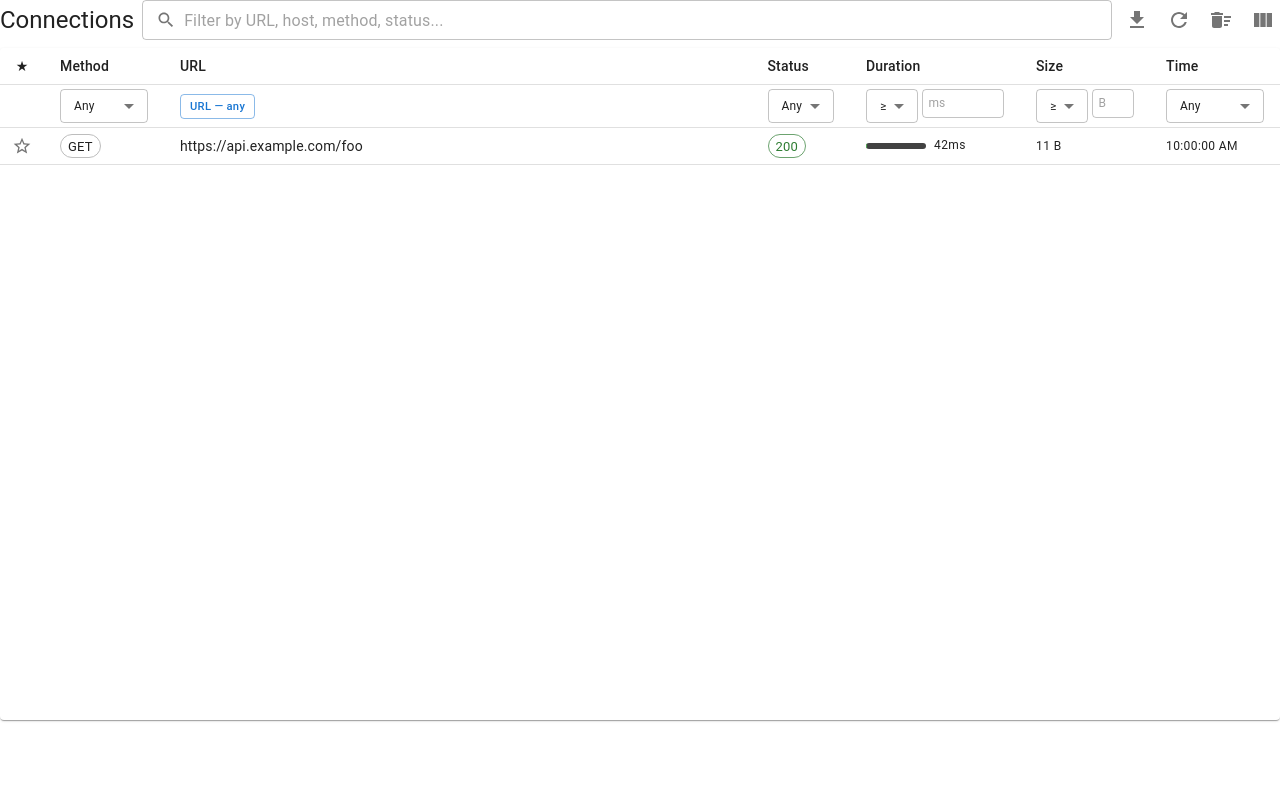
it: ConnectionsPage — body preview › renders text bodies in a <pre> block once the card is expanded
The width and height of the screenshot is (1280, 792).
Click the text "https://api.example.com/foo" at (458, 147), box [164,128,752,165]
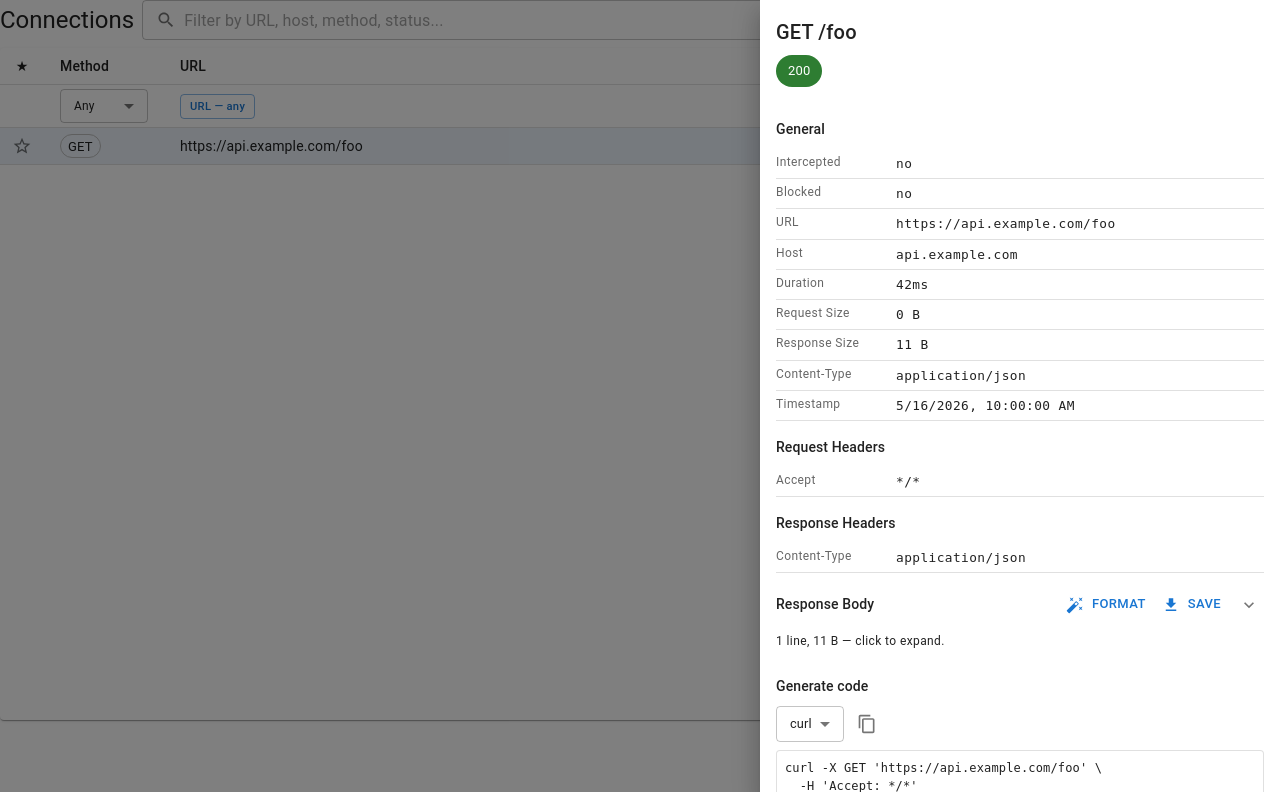
Click the button with test id "response-body-toggle" at (1249, 605), box [1234,590,1264,620]
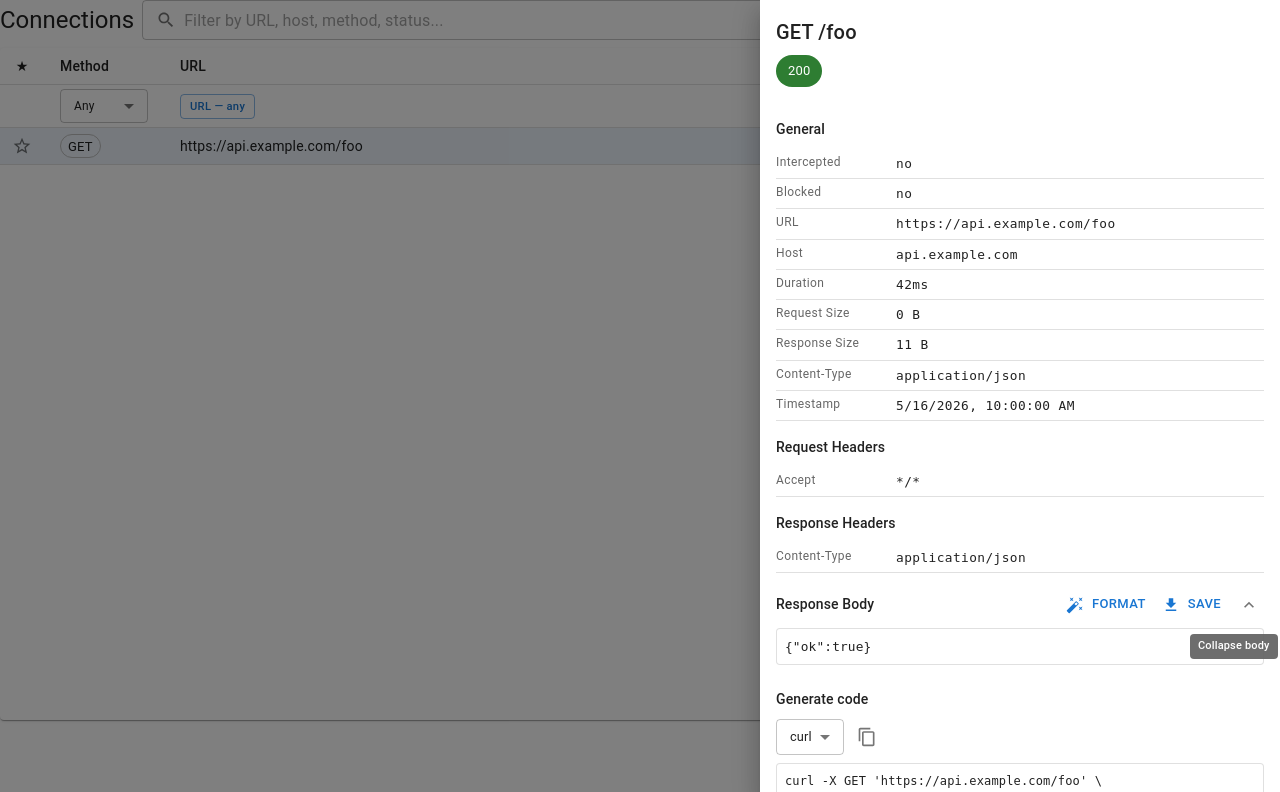
Result: the text with test id "body-preview-text" reads "{\"ok\":true}" at [785,639,871,654]
